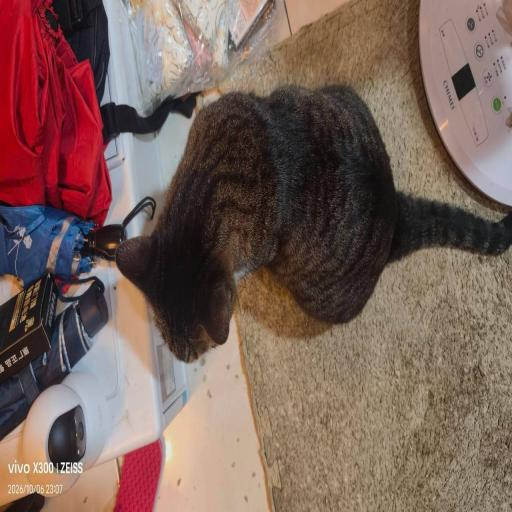cat: (139, 101, 410, 343)
